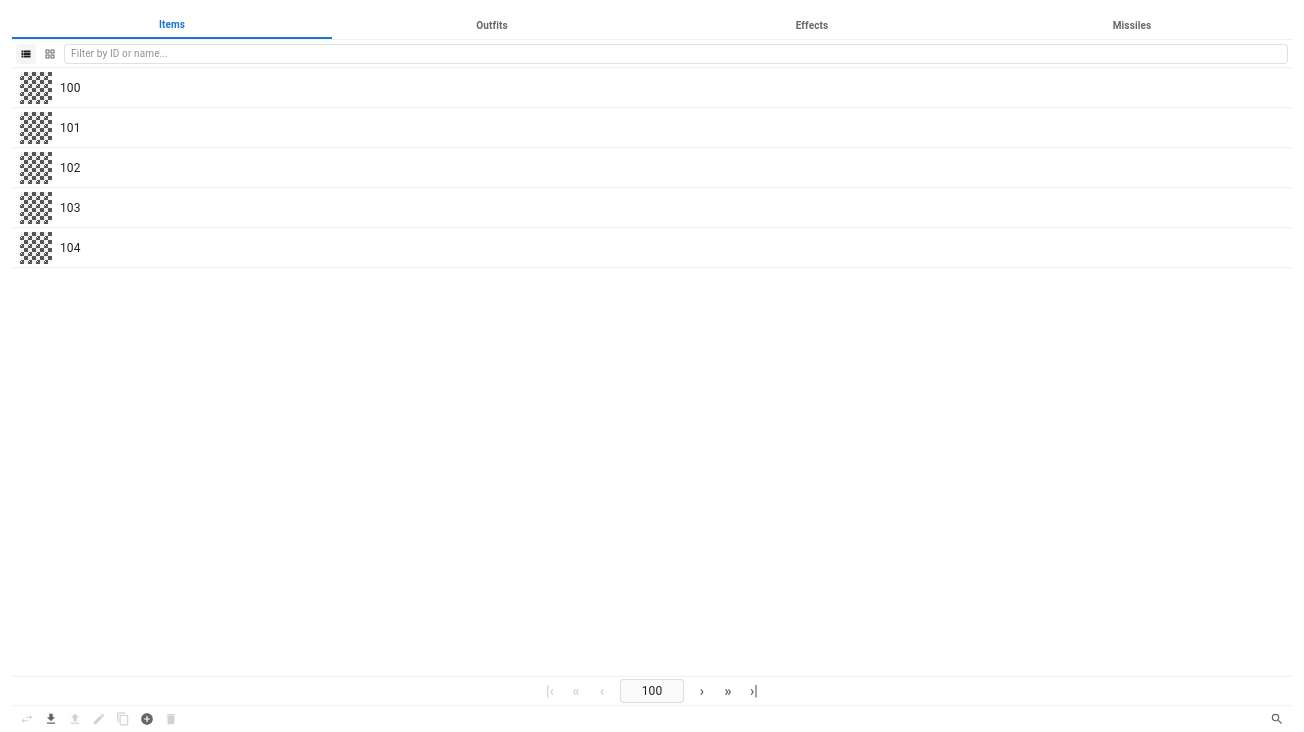
ThingListPanel › view modes › switches to grid view
The width and height of the screenshot is (1304, 732).
Click the button with test id "view-mode-grid": (50, 54) [40,44,60,64]
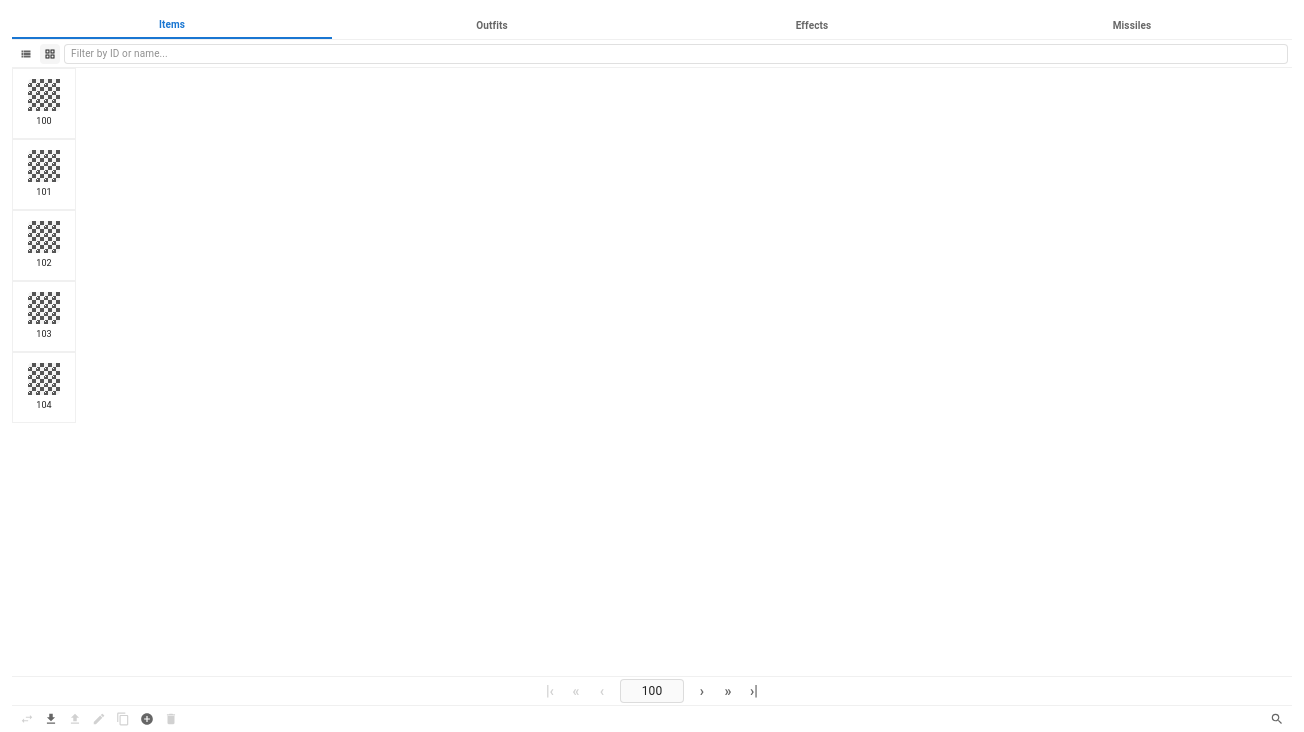
expect the element with test id "thing-grid-item-100" is shown: met, box [12,68,76,139]
